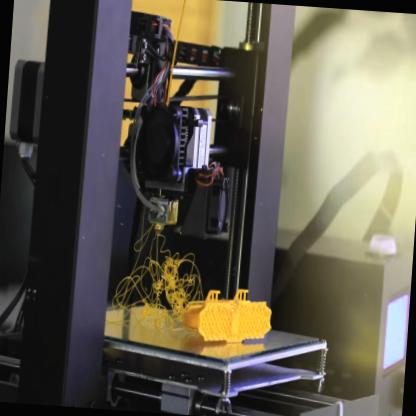fail: (113, 235, 195, 333)
